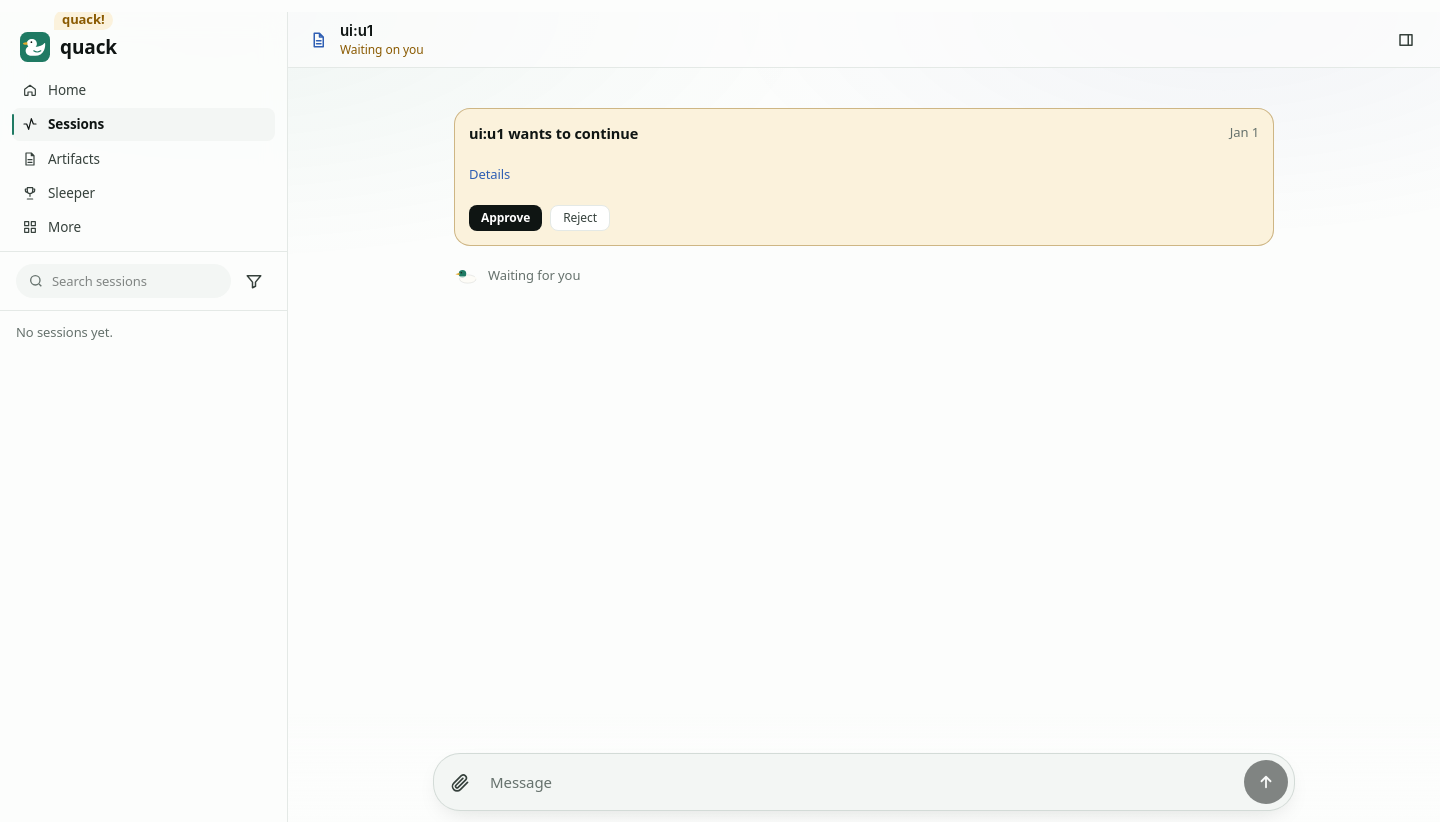
approving resolves the ask with approve and clears the item
The width and height of the screenshot is (1440, 822).
Click the button "Approve": (506, 218) [469, 205, 542, 231]
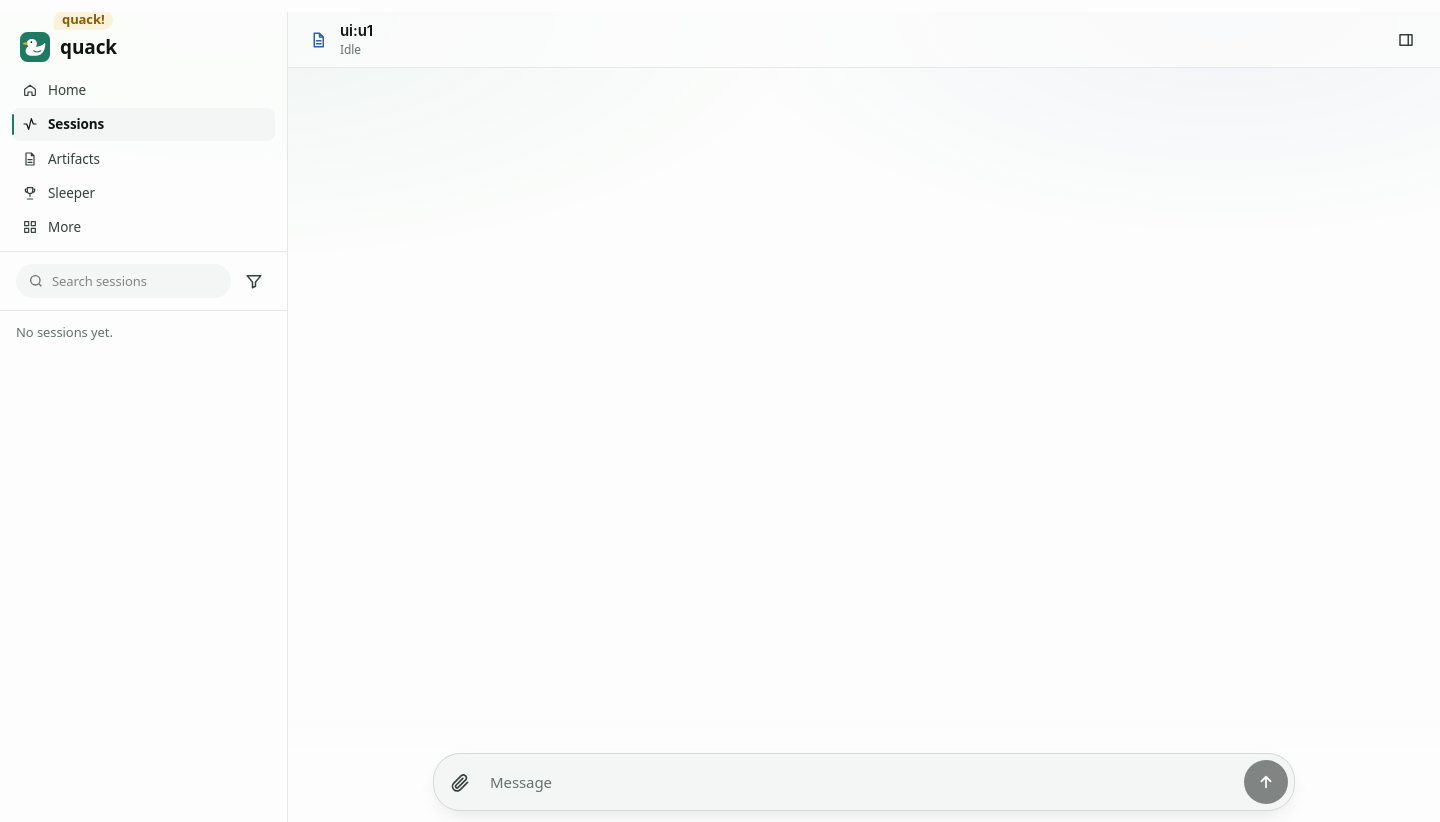
Expected: the button "Approve" is gone
